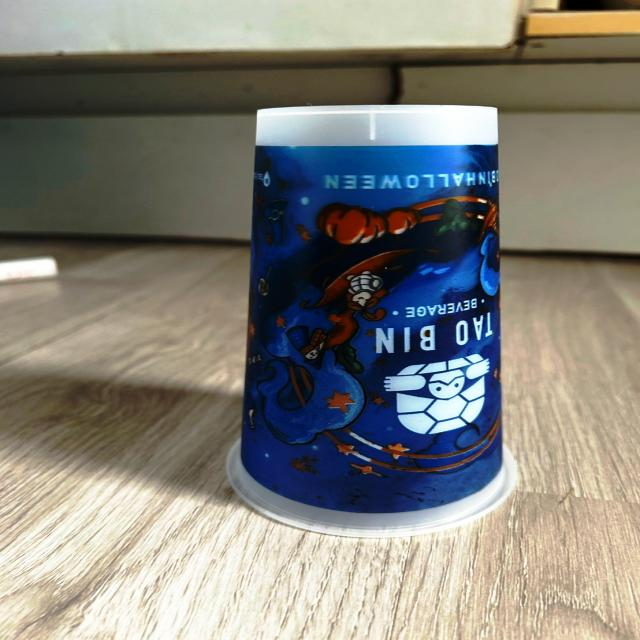Plastic Cup: (227, 106, 515, 537)
